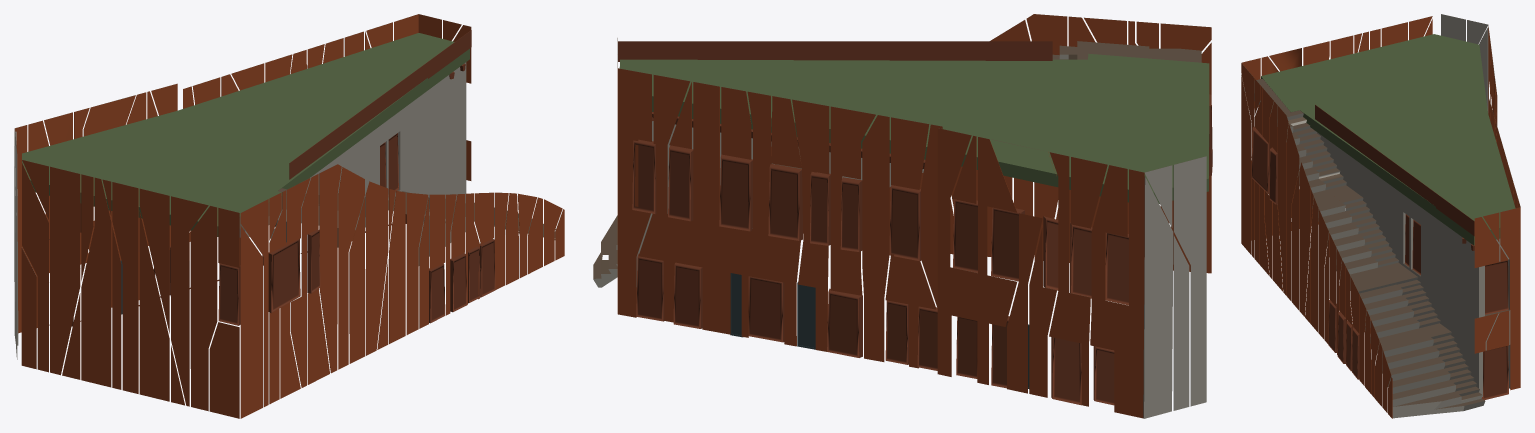
The picture shows the model from 3 angles, left to right: view 1: azimuth 30°, elevation 25°; view 2: azimuth 150°, elevation 25°; view 3: azimuth 270°, elevation 25°; orthographic projection. The views are drawn at different scales.
Parts seen in each view (by area): view 1: FBXASC208FBXASC161FBXASC209FBXASC130FBXASC208FBXASC181FBXASC (×5), FBXASC208FBXASC159FBXASC208FBXASC181FBXASC209FBXASC128FBXASC, FBXASC208FBXASC145FBXASC208FBXASC176FBXASC208FBXASC183FBXASC (×2), FBXASC208FBXASC157FBXASC208FBXASC176FBXASC209FBXASC128FBXASC (×8), FBXASC208FBXASC158FBXASC208FBXASC179FBXASC209FBXASC128FBXASC, pCube2:PIV, FBXASC0527_stair_out2FBXASC03247_stair_outFBXASC032FBXASC091; view 2: FBXASC208FBXASC161FBXASC209FBXASC130FBXASC208FBXASC181FBXASC (×3), FBXASC208FBXASC159FBXASC208FBXASC181FBXASC209FBXASC128FBXASC, FBXASC208FBXASC157FBXASC208FBXASC176FBXASC209FBXASC128FBXASC (×22), pCube2:PIV, FBXASC208FBXASC158FBXASC208FBXASC179FBXASC209FBXASC128FBXASC, FBXASC0527_stair_out2FBXASC03247_stair_outFBXASC032FBXASC091, FBXASC208FBXASC158FBXASC208FBXASC186FBXASC208FBXASC189FBXASC (×2), FBXASC208FBXASC145FBXASC208FBXASC176FBXASC208FBXASC183FBXASC; view 3: FBXASC208FBXASC161FBXASC209FBXASC130FBXASC208FBXASC181FBXASC (×5), FBXASC208FBXASC159FBXASC208FBXASC181FBXASC209FBXASC128FBXASC, FBXASC0527_stair_out2FBXASC03247_stair_outFBXASC032FBXASC091, FBXASC208FBXASC145FBXASC208FBXASC176FBXASC208FBXASC183FBXASC (×2), FBXASC208FBXASC157FBXASC208FBXASC176FBXASC209FBXASC128FBXASC (×9), FBXASC208FBXASC158FBXASC208FBXASC179FBXASC209FBXASC128FBXASC, pCube2:PIV.
Boxes of the visible parts, x1=… form: FBXASC208FBXASC161FBXASC209FBXASC130FBXASC208FBXASC181FBXASC (×5): x1=14, y1=14, x2=564, y2=418; FBXASC208FBXASC159FBXASC208FBXASC181FBXASC209FBXASC128FBXASC: x1=22, y1=33, x2=469, y2=236; FBXASC208FBXASC145FBXASC208FBXASC176FBXASC208FBXASC183FBXASC (×2): x1=278, y1=62, x2=466, y2=265; FBXASC208FBXASC157FBXASC208FBXASC176FBXASC209FBXASC128FBXASC (×8): x1=218, y1=133, x2=495, y2=325; FBXASC208FBXASC158FBXASC208FBXASC179FBXASC209FBXASC128FBXASC: x1=289, y1=30, x2=471, y2=179; pCube2:PIV: x1=14, y1=129, x2=18, y2=359; FBXASC0527_stair_out2FBXASC03247_stair_outFBXASC032FBXASC091: x1=239, y1=188, x2=555, y2=239; FBXASC208FBXASC161FBXASC209FBXASC130FBXASC208FBXASC181FBXASC (×3): x1=618, y1=14, x2=1211, y2=418; FBXASC208FBXASC159FBXASC208FBXASC181FBXASC209FBXASC128FBXASC: x1=619, y1=53, x2=1209, y2=203; FBXASC208FBXASC157FBXASC208FBXASC176FBXASC209FBXASC128FBXASC (×22): x1=632, y1=139, x2=1128, y2=405; pCube2:PIV: x1=1143, y1=156, x2=1206, y2=418; FBXASC208FBXASC158FBXASC208FBXASC179FBXASC209FBXASC128FBXASC: x1=618, y1=41, x2=1052, y2=61; FBXASC0527_stair_out2FBXASC03247_stair_outFBXASC032FBXASC091: x1=593, y1=41, x2=1201, y2=287; FBXASC208FBXASC158FBXASC208FBXASC186FBXASC208FBXASC189FBXASC (×2): x1=730, y1=273, x2=815, y2=349; FBXASC208FBXASC145FBXASC208FBXASC176FBXASC208FBXASC183FBXASC: x1=636, y1=121, x2=923, y2=286; FBXASC208FBXASC161FBXASC209FBXASC130FBXASC208FBXASC181FBXASC (×5): x1=1241, y1=16, x2=1520, y2=418; FBXASC208FBXASC159FBXASC208FBXASC181FBXASC209FBXASC128FBXASC: x1=1261, y1=34, x2=1515, y2=245; FBXASC0527_stair_out2FBXASC03247_stair_outFBXASC032FBXASC091: x1=1244, y1=78, x2=1485, y2=418; FBXASC208FBXASC145FBXASC208FBXASC176FBXASC208FBXASC183FBXASC (×2): x1=1317, y1=132, x2=1510, y2=396; FBXASC208FBXASC157FBXASC208FBXASC176FBXASC209FBXASC128FBXASC (×9): x1=1251, y1=126, x2=1508, y2=400; FBXASC208FBXASC158FBXASC208FBXASC179FBXASC209FBXASC128FBXASC: x1=1315, y1=104, x2=1474, y2=236; pCube2:PIV: x1=1441, y1=14, x2=1488, y2=112.
Bounding box in the file's own units: 2604 × 1019 × 1383.
